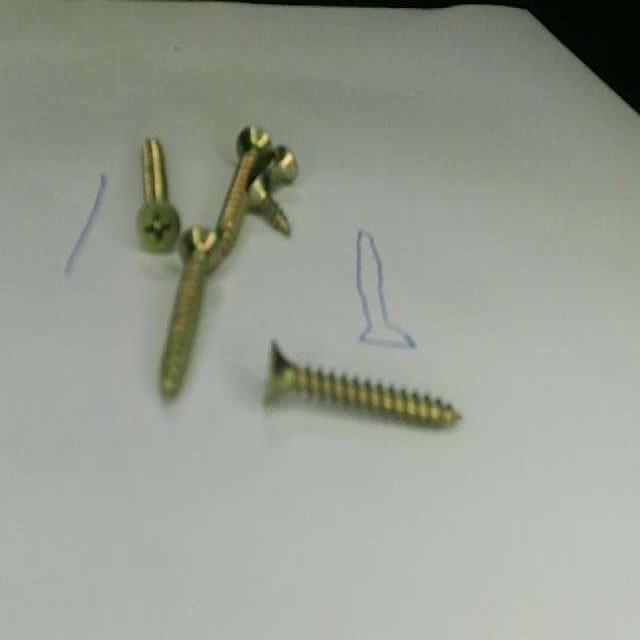Parafuso: (265, 343, 459, 426), (160, 226, 218, 398), (210, 126, 271, 269), (136, 139, 179, 253), (248, 171, 290, 235), (265, 146, 298, 187)
